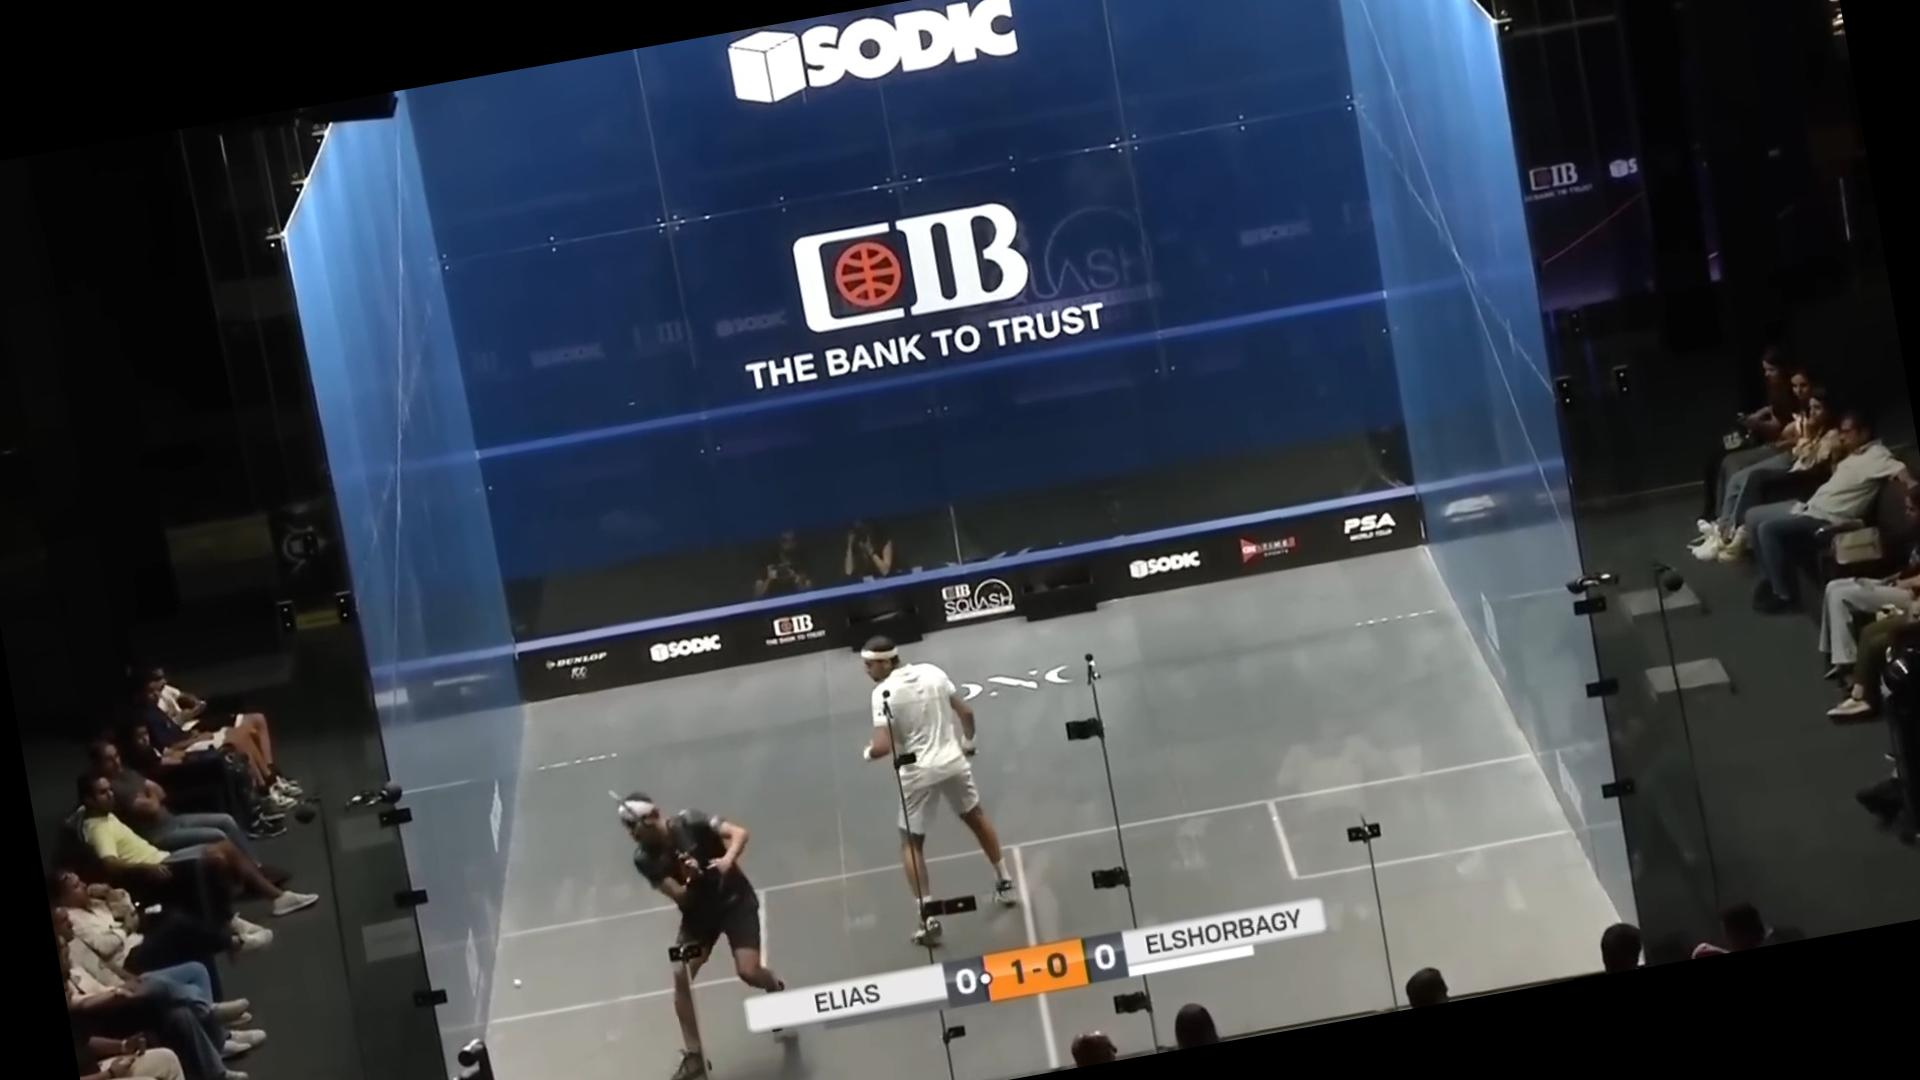Squash-Ball: (502, 965, 531, 998)
